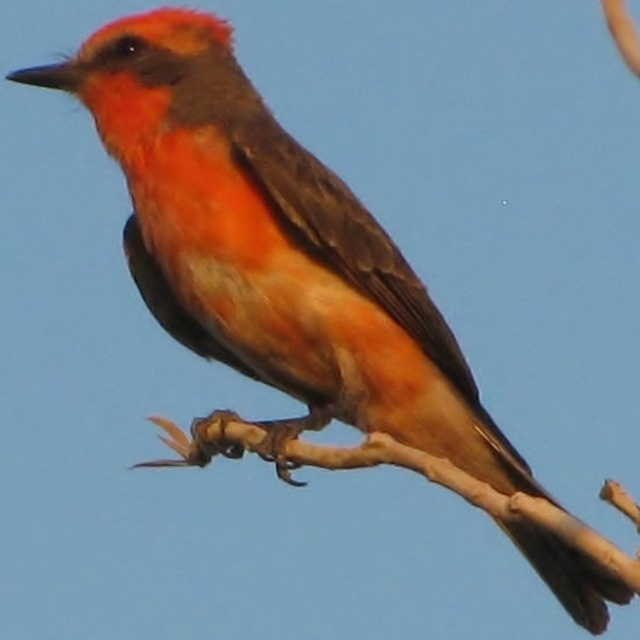Canary: (3, 2, 637, 632)
